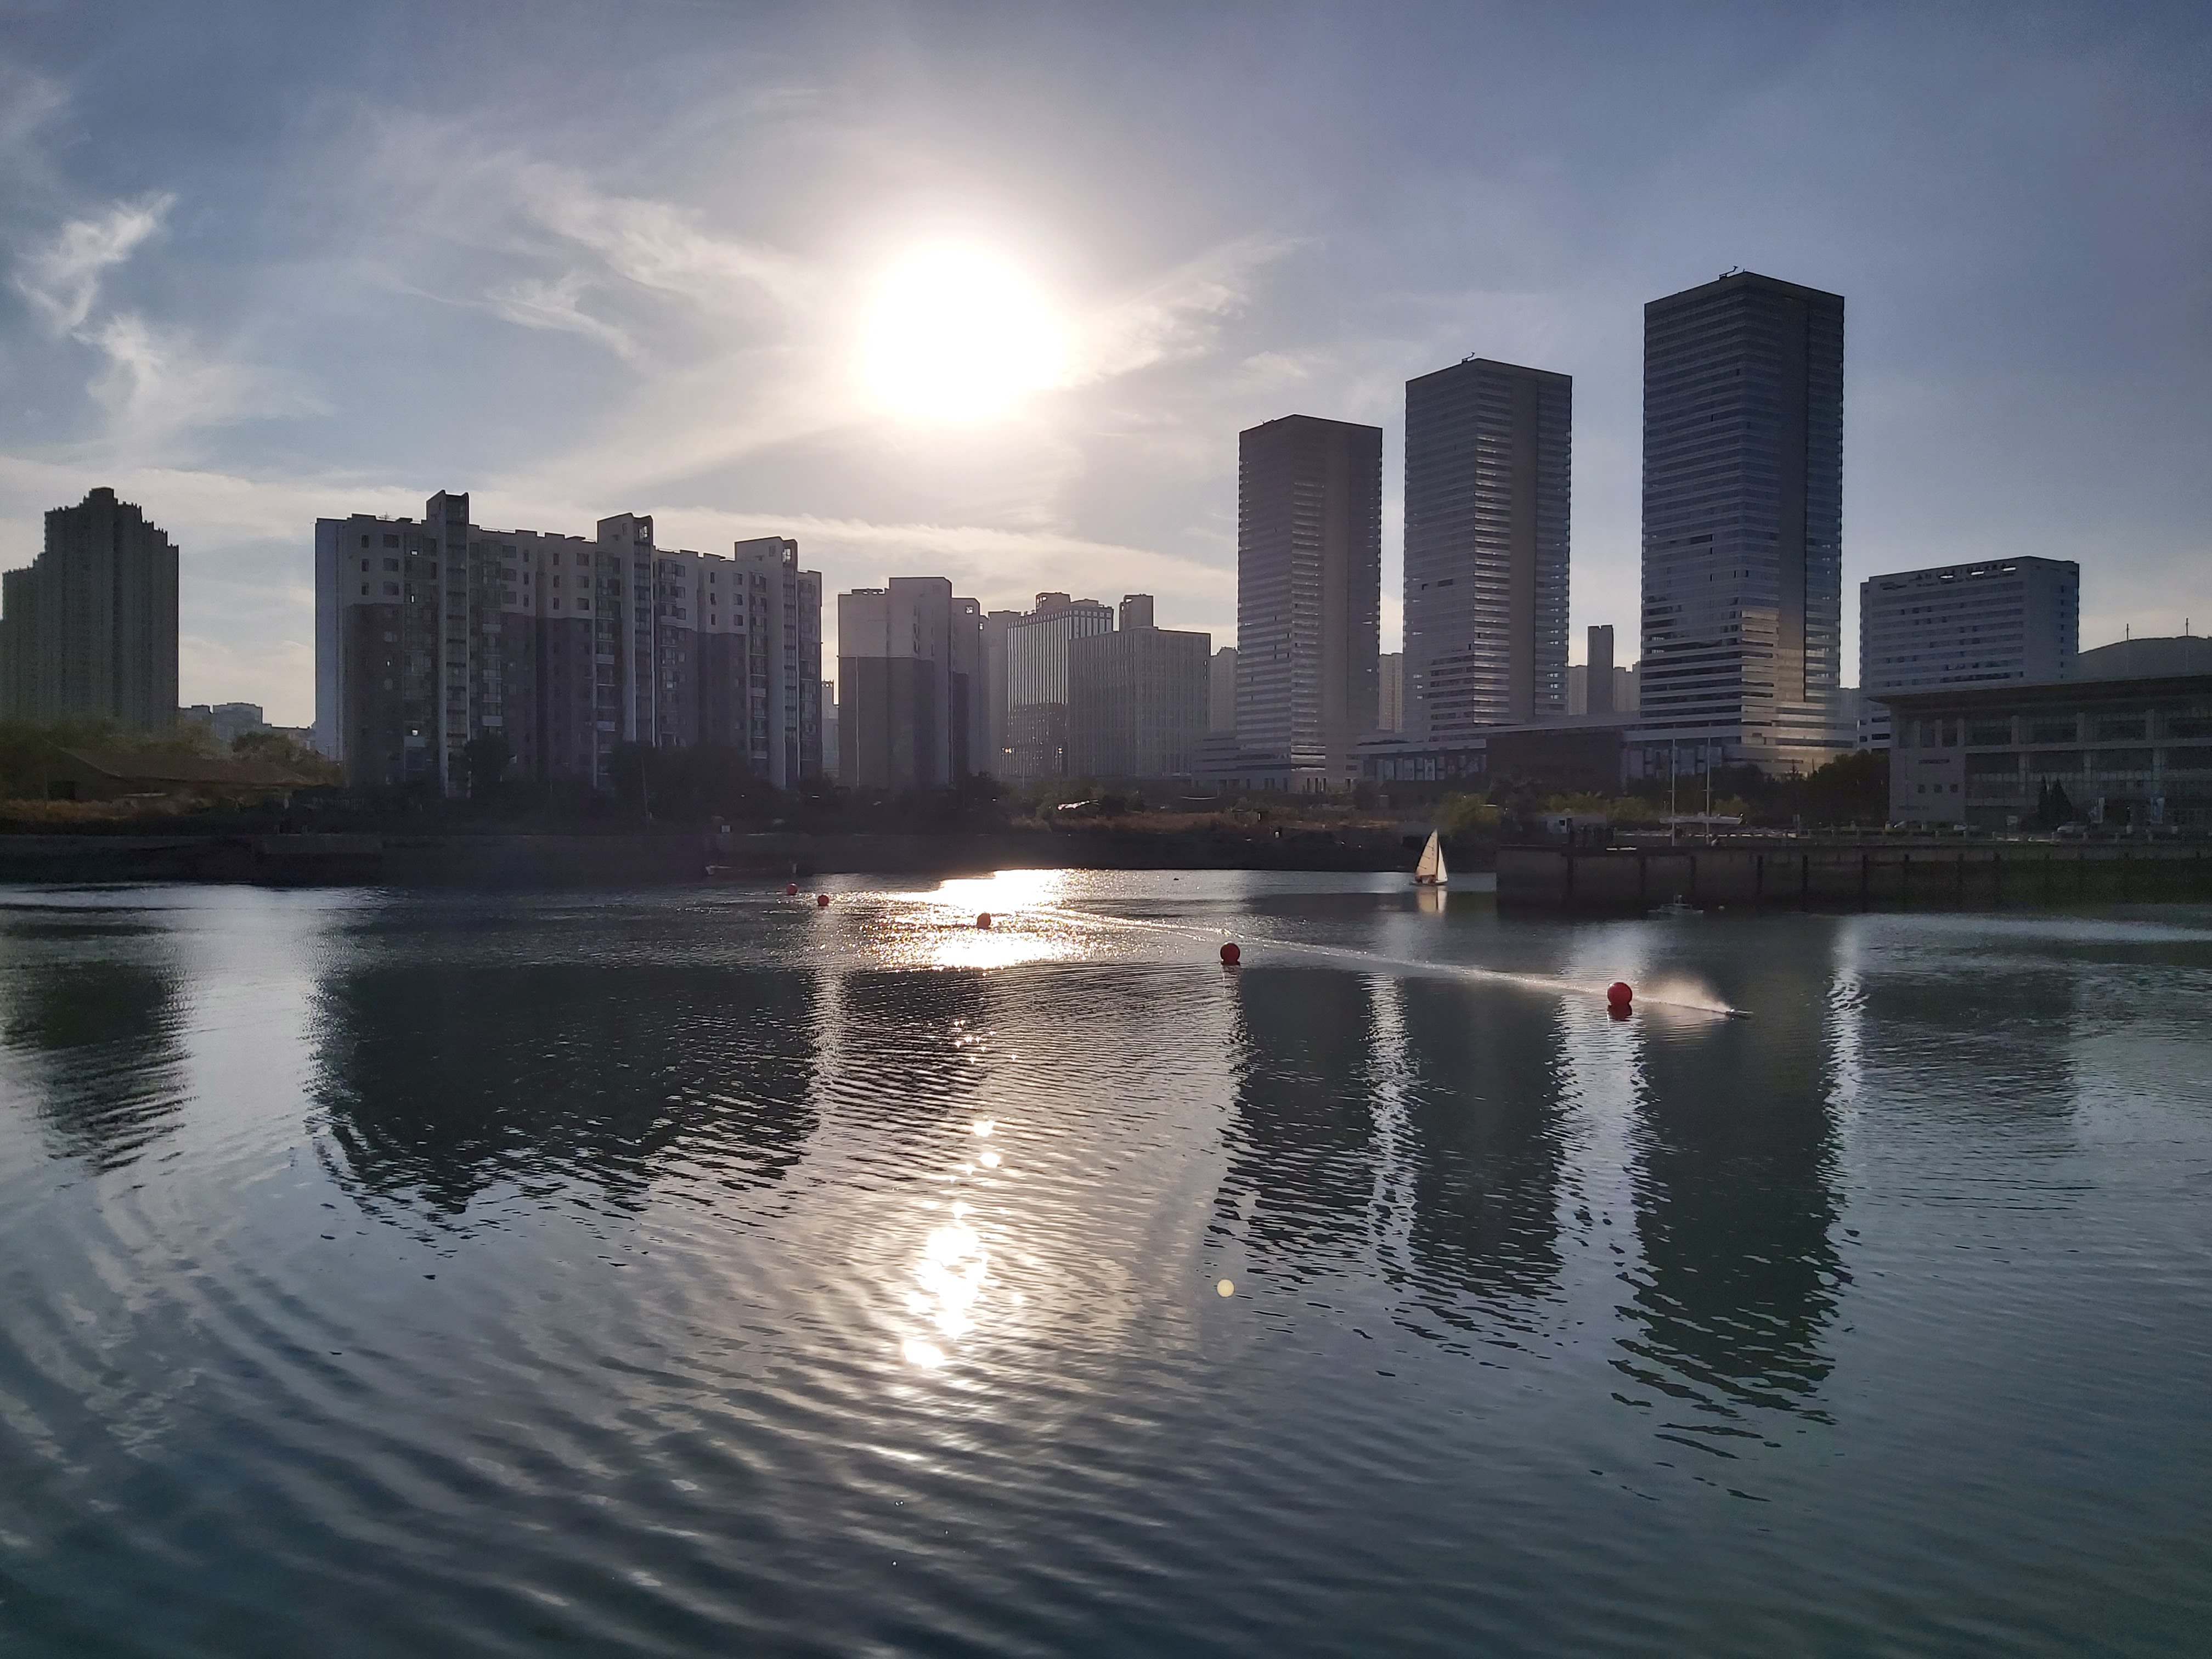ball: (1606, 981, 1634, 1009), (1221, 938, 1244, 967)
boat: (1407, 830, 1453, 897)
